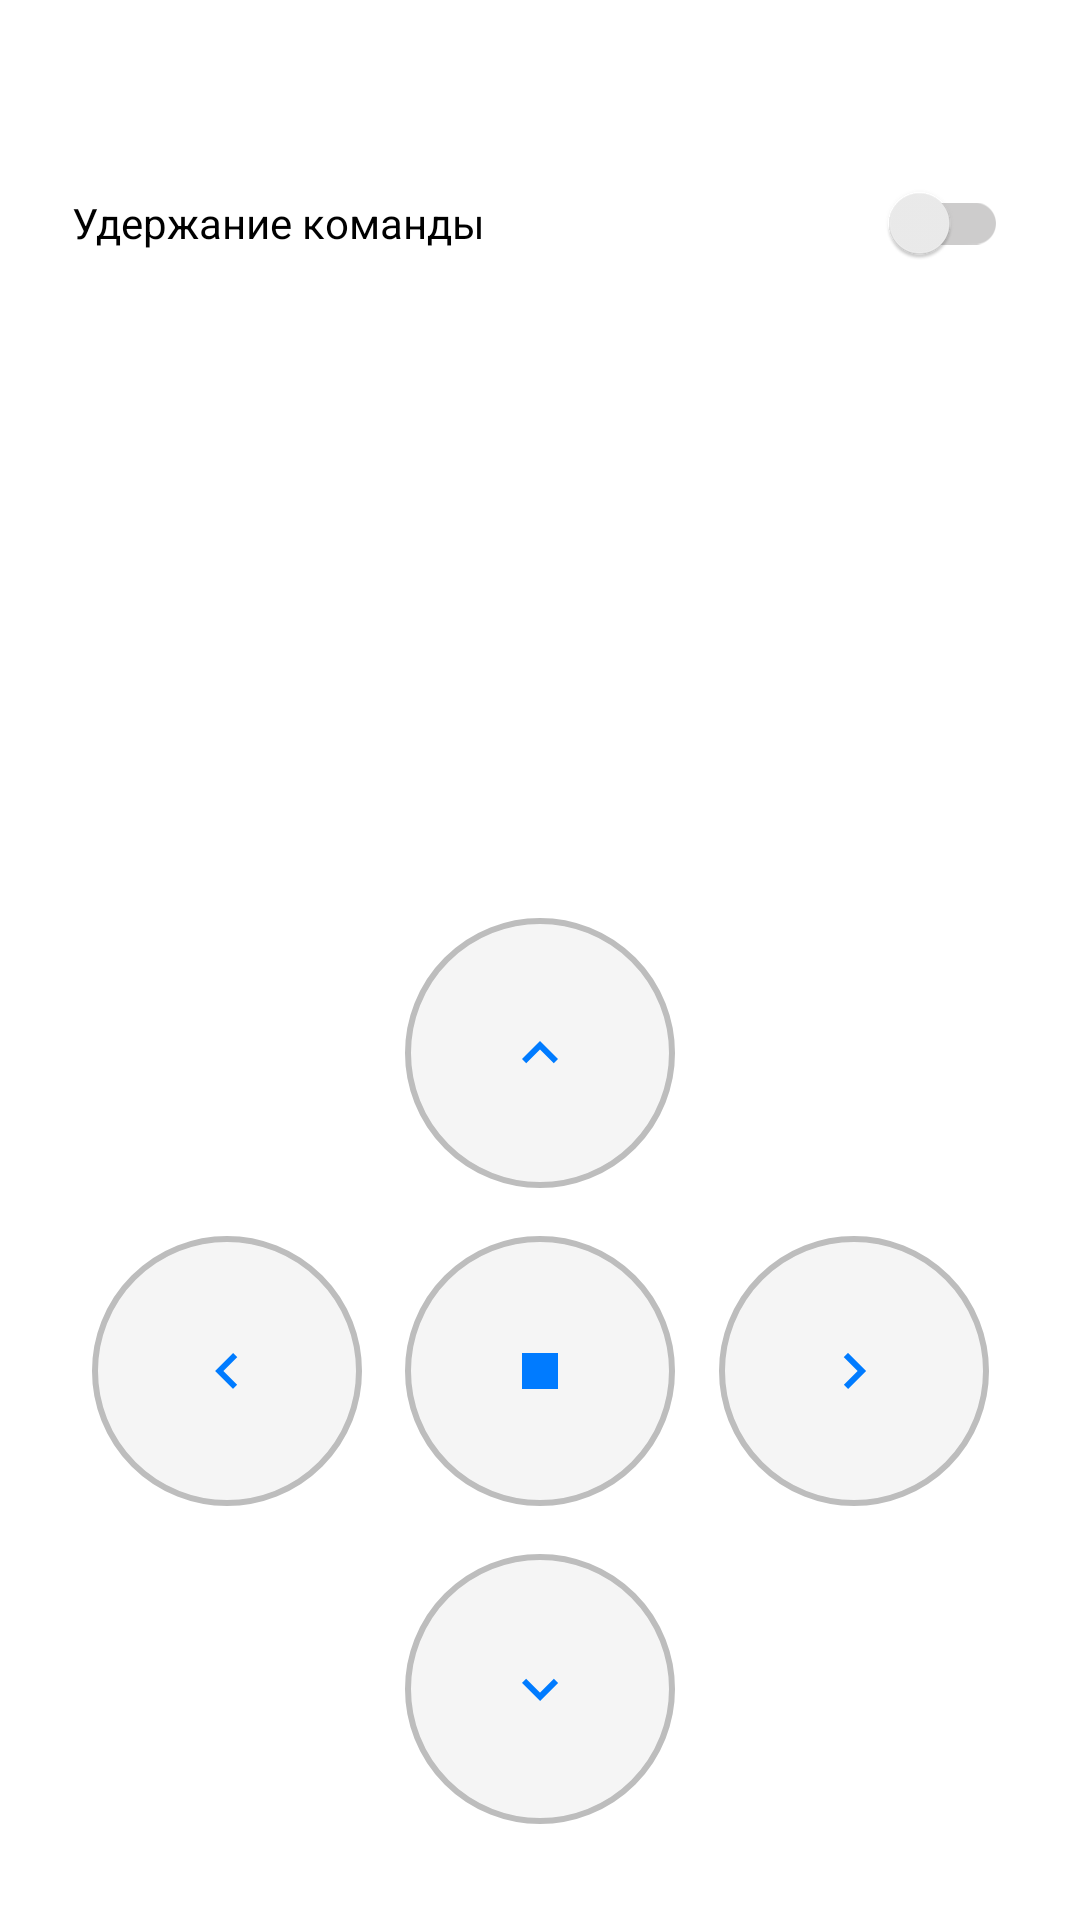

Locate icon controls on the screen. Image size 1080×1920, boxes as (x1, y1, x2, y2).
keyboard arrow down: (405, 1554, 675, 1824)
keyboard arrow left: (92, 1236, 362, 1506)
keyboard arrow right: (719, 1236, 989, 1506)
keyboard arrow up: (405, 918, 675, 1188)
stop: (405, 1236, 675, 1506)
